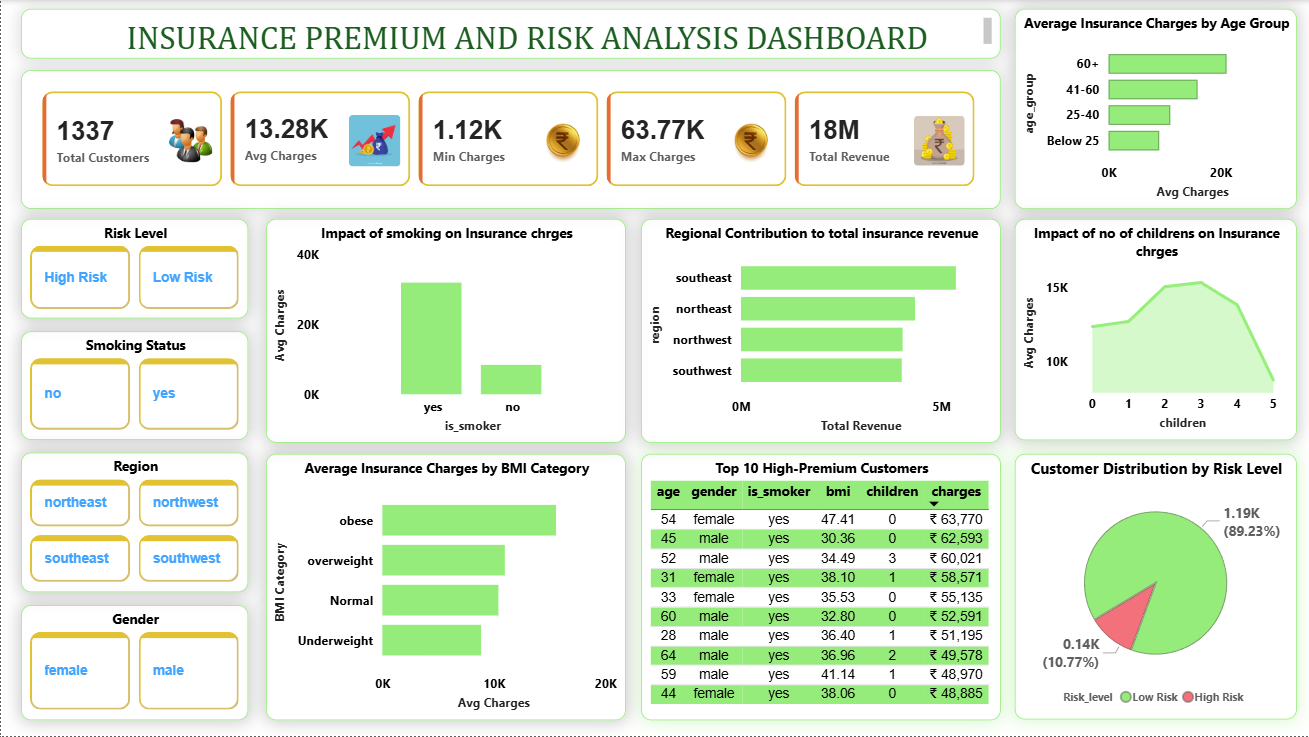

Layout of this report page (visuals, bound fields, positions):
{"tool":"powerbi","page":{"name":"Page 1","canvas":[1280,720],"ordinal":0},"visuals":[{"type":"cardVisual","fields":{"Data":["insurance_analysis_cleaned.Total Customers","insurance_analysis_cleaned.Avg Charges","insurance_analysis_cleaned.Min Charges","insurance_analysis_cleaned.Max Charges","insurance_analysis_cleaned.Total Revenue"]},"box":[19.6,68.5,958.7,135.7],"z":0},{"type":"advancedSlicerVisual","title":"Region","fields":{"Values":["insurance_analysis_cleaned.region"]},"box":[19.6,442.7,222.6,137],"z":1000},{"type":"advancedSlicerVisual","title":"Smoking Status","fields":{"Values":["insurance_analysis_cleaned.is_smoker"]},"box":[19.6,324.1,222.6,106.4],"z":2000},{"type":"advancedSlicerVisual","title":"Risk Level","fields":{"Values":["insurance_analysis_cleaned.risk_level"]},"box":[19.6,214,222.6,97.8],"z":3000},{"type":"advancedSlicerVisual","title":"Gender","fields":{"Values":["insurance_analysis_cleaned.gender"]},"box":[19.6,591.9,222.6,112.5],"z":4000},{"type":"columnChart","title":"Impact of smoking on Insurance chrges","fields":{"Category":["insurance_analysis_cleaned.is_smoker"],"Y":["insurance_analysis_cleaned.Avg Charges"]},"box":[259.2,214,352.2,218.9],"z":5000},{"type":"barChart","title":"Regional Contribution to total insurance revenue","fields":{"Category":["insurance_analysis_cleaned.region"],"Y":["insurance_analysis_cleaned.Total Revenue"]},"box":[626.1,214,352.2,218.9],"z":6000},{"type":"areaChart","title":"Impact of no of childrens on Insurance chrges","fields":{"Y":["insurance_analysis_cleaned.Avg Charges"],"Category":["insurance_analysis_cleaned.children"]},"box":[991.7,214,276.4,216.4],"z":7000},{"type":"tableEx","title":"Top 10 High-Premium Customers","fields":{"Values":["insurance_analysis_cleaned.age","insurance_analysis_cleaned.gender","insurance_analysis_cleaned.is_smoker","insurance_analysis_cleaned.bmi","insurance_analysis_cleaned.children","insurance_analysis_cleaned.charges"]},"box":[626.1,443.9,352.2,260.5],"z":8000},{"type":"barChart","title":"Average Insurance Charges by BMI Category","fields":{"Y":["insurance_analysis_cleaned.Avg Charges"],"Category":["insurance_analysis_cleaned.bmi_category"]},"box":[259.2,443.9,352.2,260.5],"z":9000},{"type":"pieChart","title":"Customer Distribution by Risk Level","fields":{"Category":["insurance_analysis_cleaned.risk_level"],"Y":["CountNonNull(insurance_analysis_cleaned.customerid)"]},"box":[992,444,276,260],"z":10000},{"type":"barChart","title":"Average Insurance Charges by Age Group","fields":{"Y":["insurance_analysis_cleaned.Avg Charges"],"Category":["insurance_analysis_cleaned.age_group"]},"box":[991.7,8.6,276.4,195.7],"z":11000},{"type":"textbox","box":[19.6,8.6,958.7,48.9],"z":12000}]}

Visuals, with their boxes in screenshot pixels (x1, y1, x2, y2), scaled from the page's 1280x720 canvas onto the 1309x737 screenshot:
cardVisual - insurance_analysis_cleaned.Total Customers x insurance_analysis_cleaned.Avg Charges: rect(20, 70, 1000, 209)
"Region" advancedSlicerVisual: rect(20, 453, 248, 593)
"Smoking Status" advancedSlicerVisual: rect(20, 332, 248, 441)
"Risk Level" advancedSlicerVisual: rect(20, 219, 248, 319)
"Gender" advancedSlicerVisual: rect(20, 606, 248, 721)
"Impact of smoking on Insurance chrges" columnChart: rect(265, 219, 625, 443)
"Regional Contribution to total insurance revenue" barChart: rect(640, 219, 1000, 443)
"Impact of no of childrens on Insurance chrges" areaChart: rect(1014, 219, 1297, 441)
"Top 10 High-Premium Customers" tableEx: rect(640, 454, 1000, 721)
"Average Insurance Charges by BMI Category" barChart: rect(265, 454, 625, 721)
"Customer Distribution by Risk Level" pieChart: rect(1014, 454, 1297, 721)
"Average Insurance Charges by Age Group" barChart: rect(1014, 9, 1297, 209)
textbox: rect(20, 9, 1000, 59)
